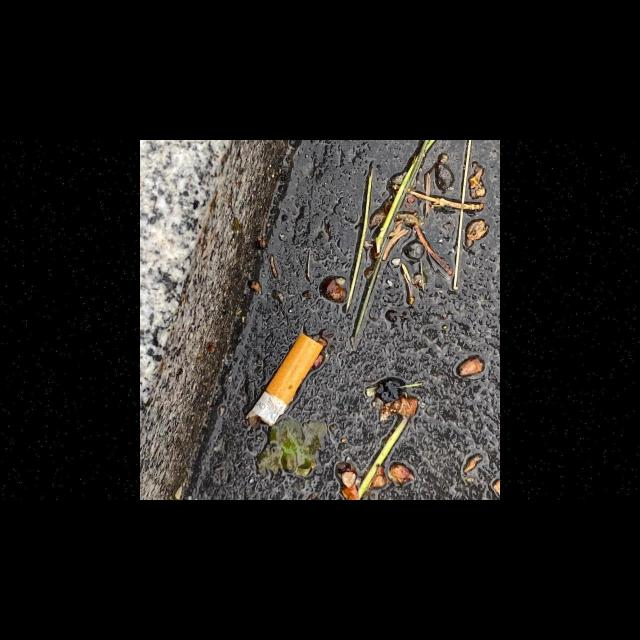cigarette: (244, 332, 324, 429)
